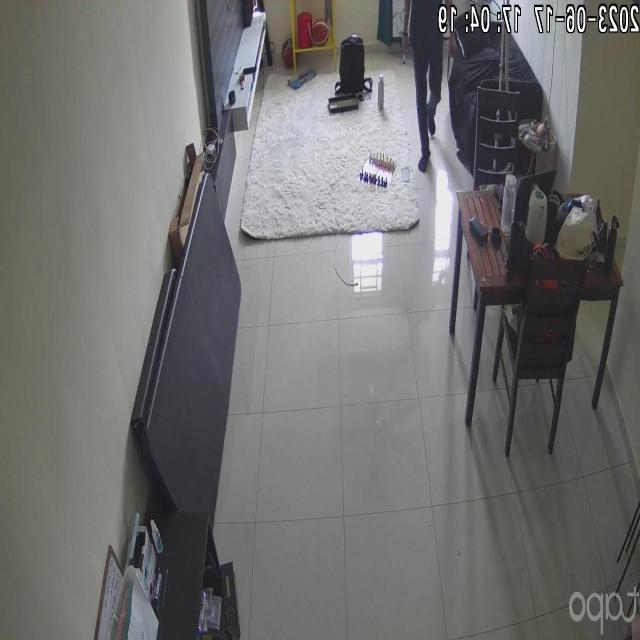Knife: (442, 50, 461, 92)
